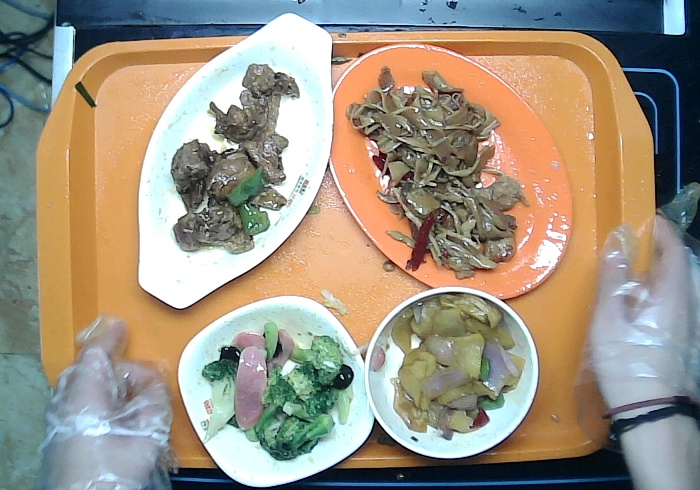NLDX-Bai_Se_Xiao_Fang_Die: (173, 291, 381, 490)
NLDX-Fan_Wan: (356, 281, 545, 461)
NLDX-Ju_Se_Pan: (326, 42, 579, 306)
NLDX-Yu_Pan: (126, 9, 341, 314)
